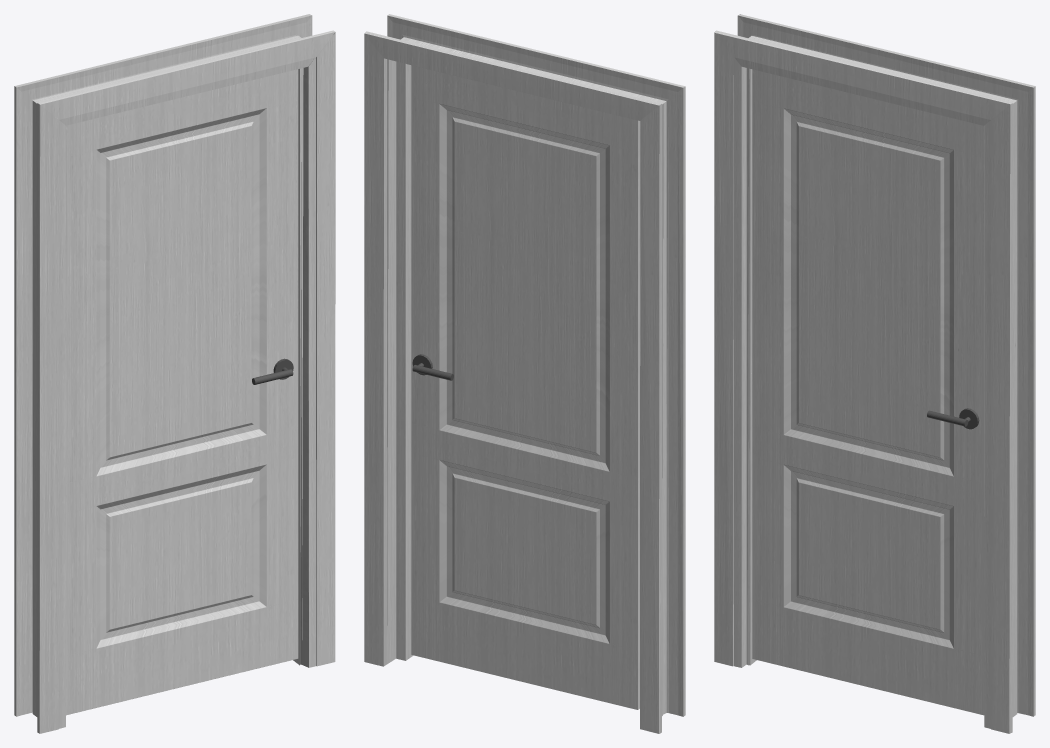
Rendered from Door.fbx.
The picture shows the model from 3 angles, left to right: view 1: azimuth 30°, elevation 25°; view 2: azimuth 150°, elevation 25°; view 3: azimuth 330°, elevation 25°; orthographic projection.
Visible parts, largest first — view 1: door, frame door; view 2: door, frame door; view 3: door, frame door.
Part boxes in pixels (left/top/right/bottom): door: left=66, top=69, right=298, bottom=715; frame door: left=14, top=14, right=335, bottom=733; door: left=411, top=65, right=640, bottom=709; frame door: left=364, top=14, right=685, bottom=733; door: left=752, top=69, right=984, bottom=715; frame door: left=714, top=14, right=1035, bottom=733.
Size of the model in its own units: 104 by 212 by 16.76.
2 materials, 1 textured.
